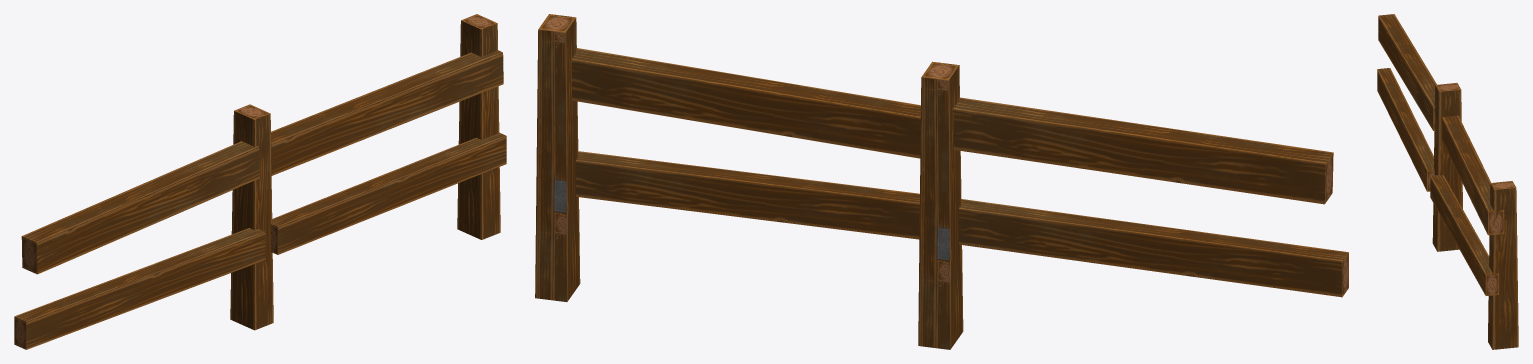
The picture shows the model from 3 angles, left to right: view 1: azimuth 30°, elevation 25°; view 2: azimuth 150°, elevation 25°; view 3: azimuth 270°, elevation 25°; orthographic projection. The views are drawn at different scales.
Visible parts, largest first — view 1: Cube.1619; view 2: Cube.1619; view 3: Cube.1619.
Boxes of the visible parts, left/top/right/bottom form: Cube.1619: left=14, top=14, right=506, bottom=349; Cube.1619: left=535, top=14, right=1348, bottom=349; Cube.1619: left=1377, top=14, right=1518, bottom=349.
Size of the model in its own units: 366 by 132 by 106.
1 material, 1 textured.
